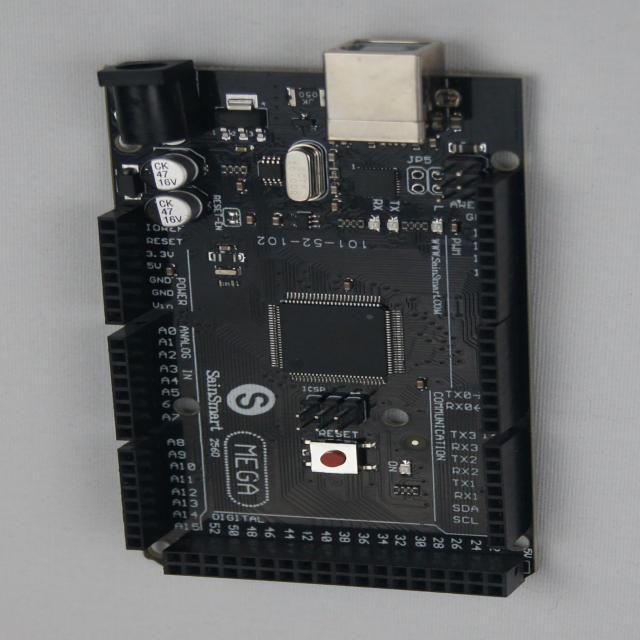Arduino Mega 2560 -Black-: (99, 40, 534, 596)
